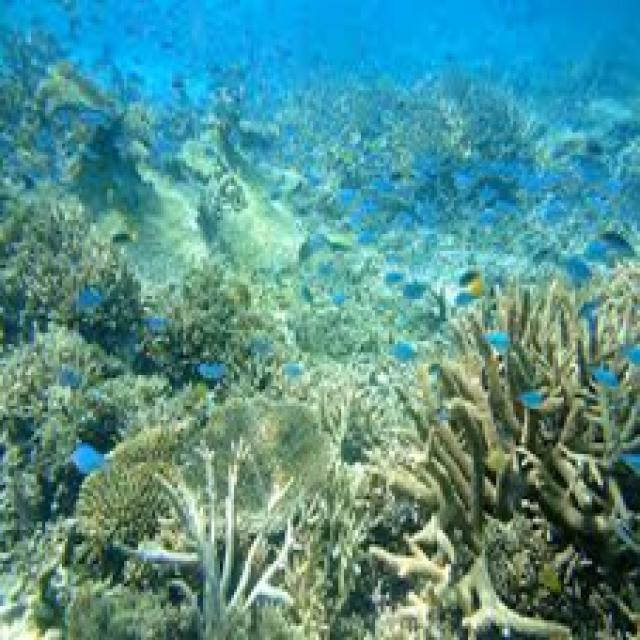Bleached: (125, 440, 311, 632), (367, 522, 578, 640), (316, 362, 419, 467)
